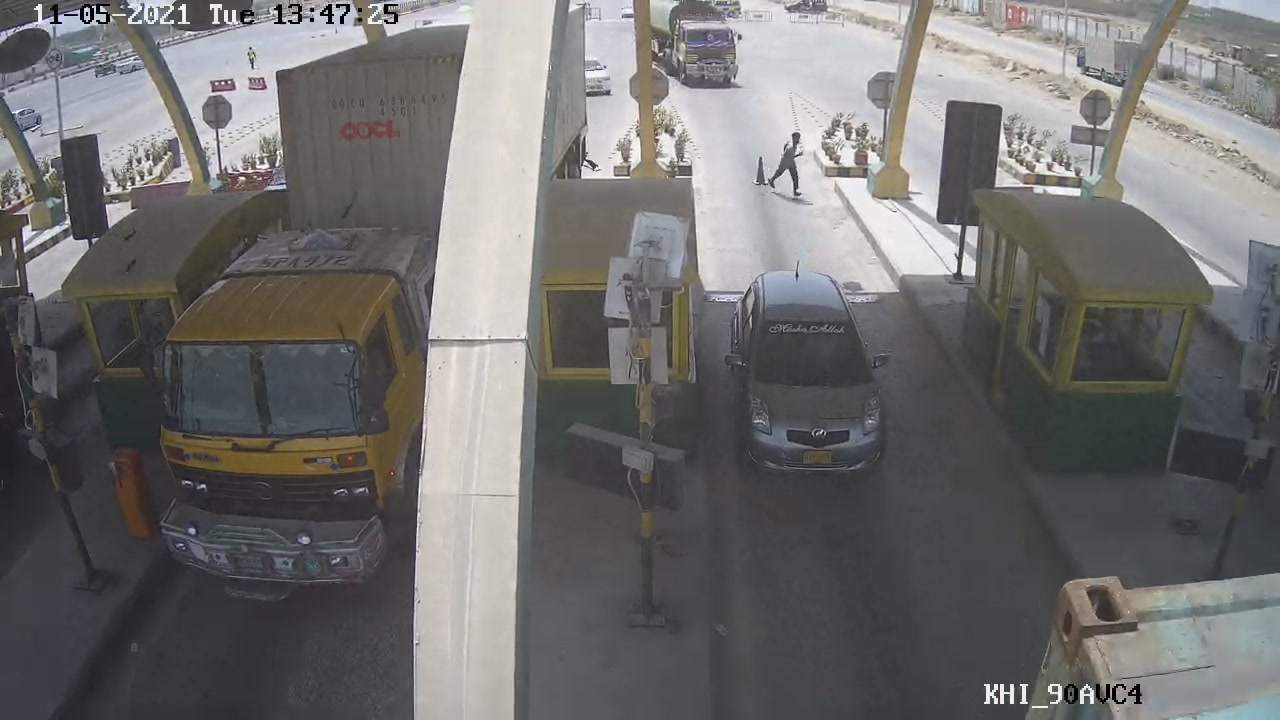F1: (719, 255, 924, 483)
